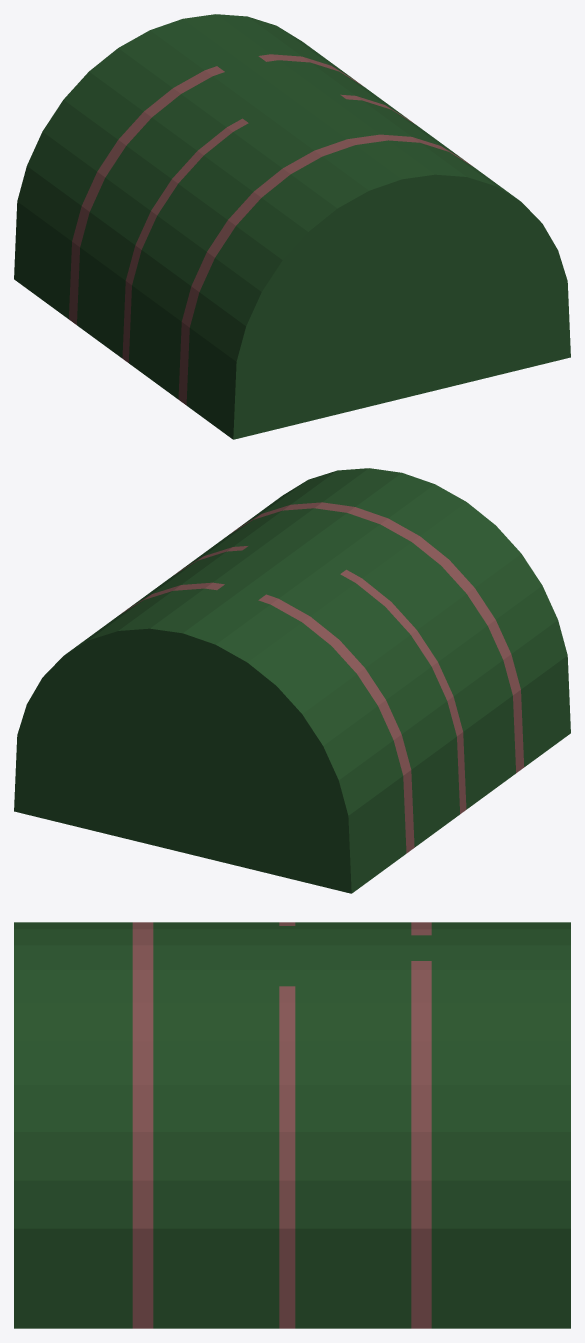
Rendered from saddle-tank.dae.
The picture shows the model from 3 angles, top to bottom: view 1: azimuth 30°, elevation 25°; view 2: azimuth 150°, elevation 25°; view 3: azimuth 270°, elevation 25°; orthographic projection. The views are drawn at different scales.
Visible parts, largest first — view 1: Cylinder; view 2: Cylinder; view 3: Cylinder.
Boxes of the visible parts, x1,y1,x2,y2 form: Cylinder: [14, 14, 570, 439]; Cylinder: [14, 468, 570, 893]; Cylinder: [14, 922, 570, 1328].
Size of the model in its own units: 1.6 by 1.8 by 0.9931.
